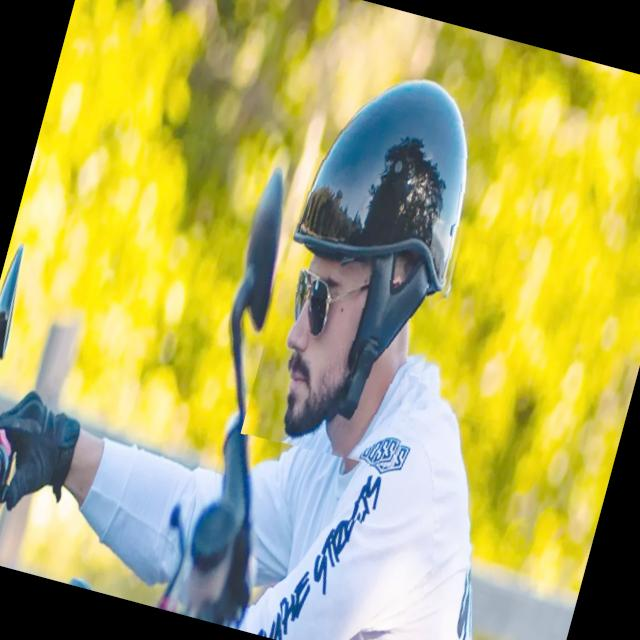Helmet: (240, 44, 508, 478)
